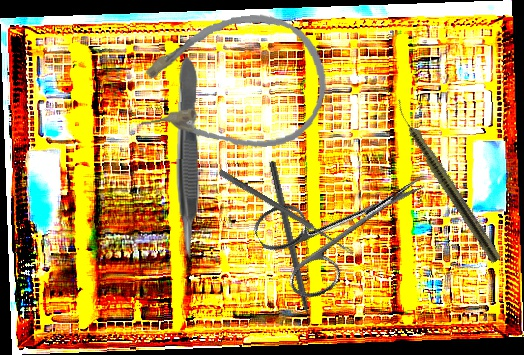Cannula: (127, 8, 333, 160)
Handpiece: (387, 96, 505, 265)
Hook Surgical: (267, 160, 318, 343)
Iris Scissors: (248, 137, 446, 308)
Surgical Spoon: (217, 169, 356, 256)
Tissue Forceps: (174, 57, 203, 261)
